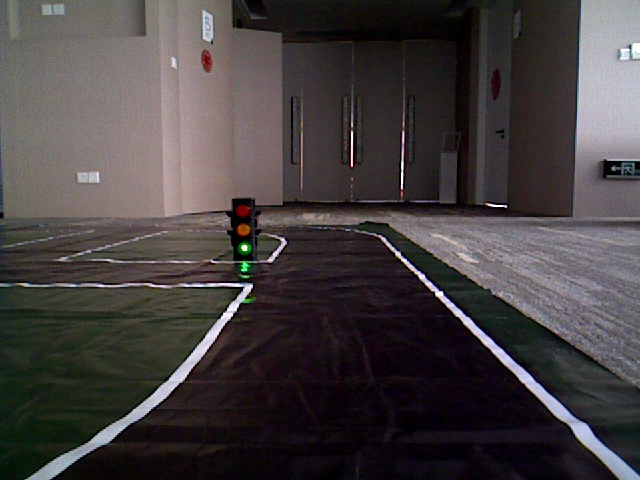green: (231, 200, 257, 254)
